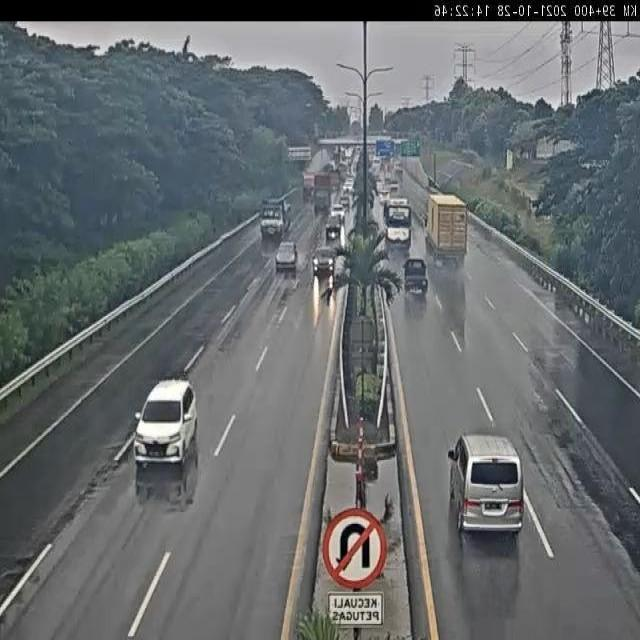Bus: (384, 198, 413, 252)
Car: (448, 432, 523, 534), (128, 376, 196, 476), (403, 257, 429, 298), (312, 245, 336, 277), (275, 241, 298, 272), (322, 213, 342, 242)
Truck: (423, 195, 472, 268), (254, 192, 292, 243)
